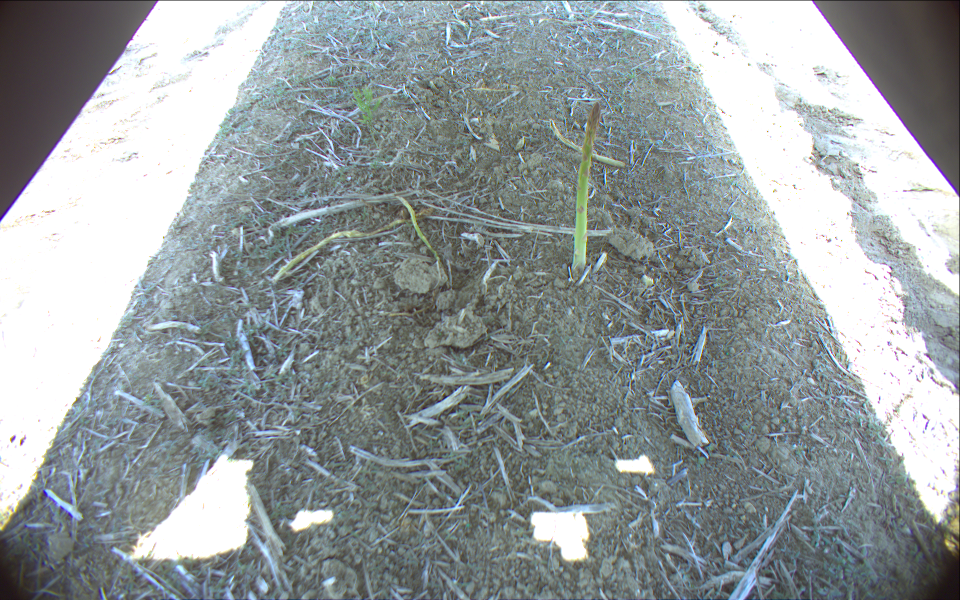aspa: (272, 207, 433, 284), (572, 101, 602, 276), (396, 197, 442, 285), (548, 124, 626, 169)
